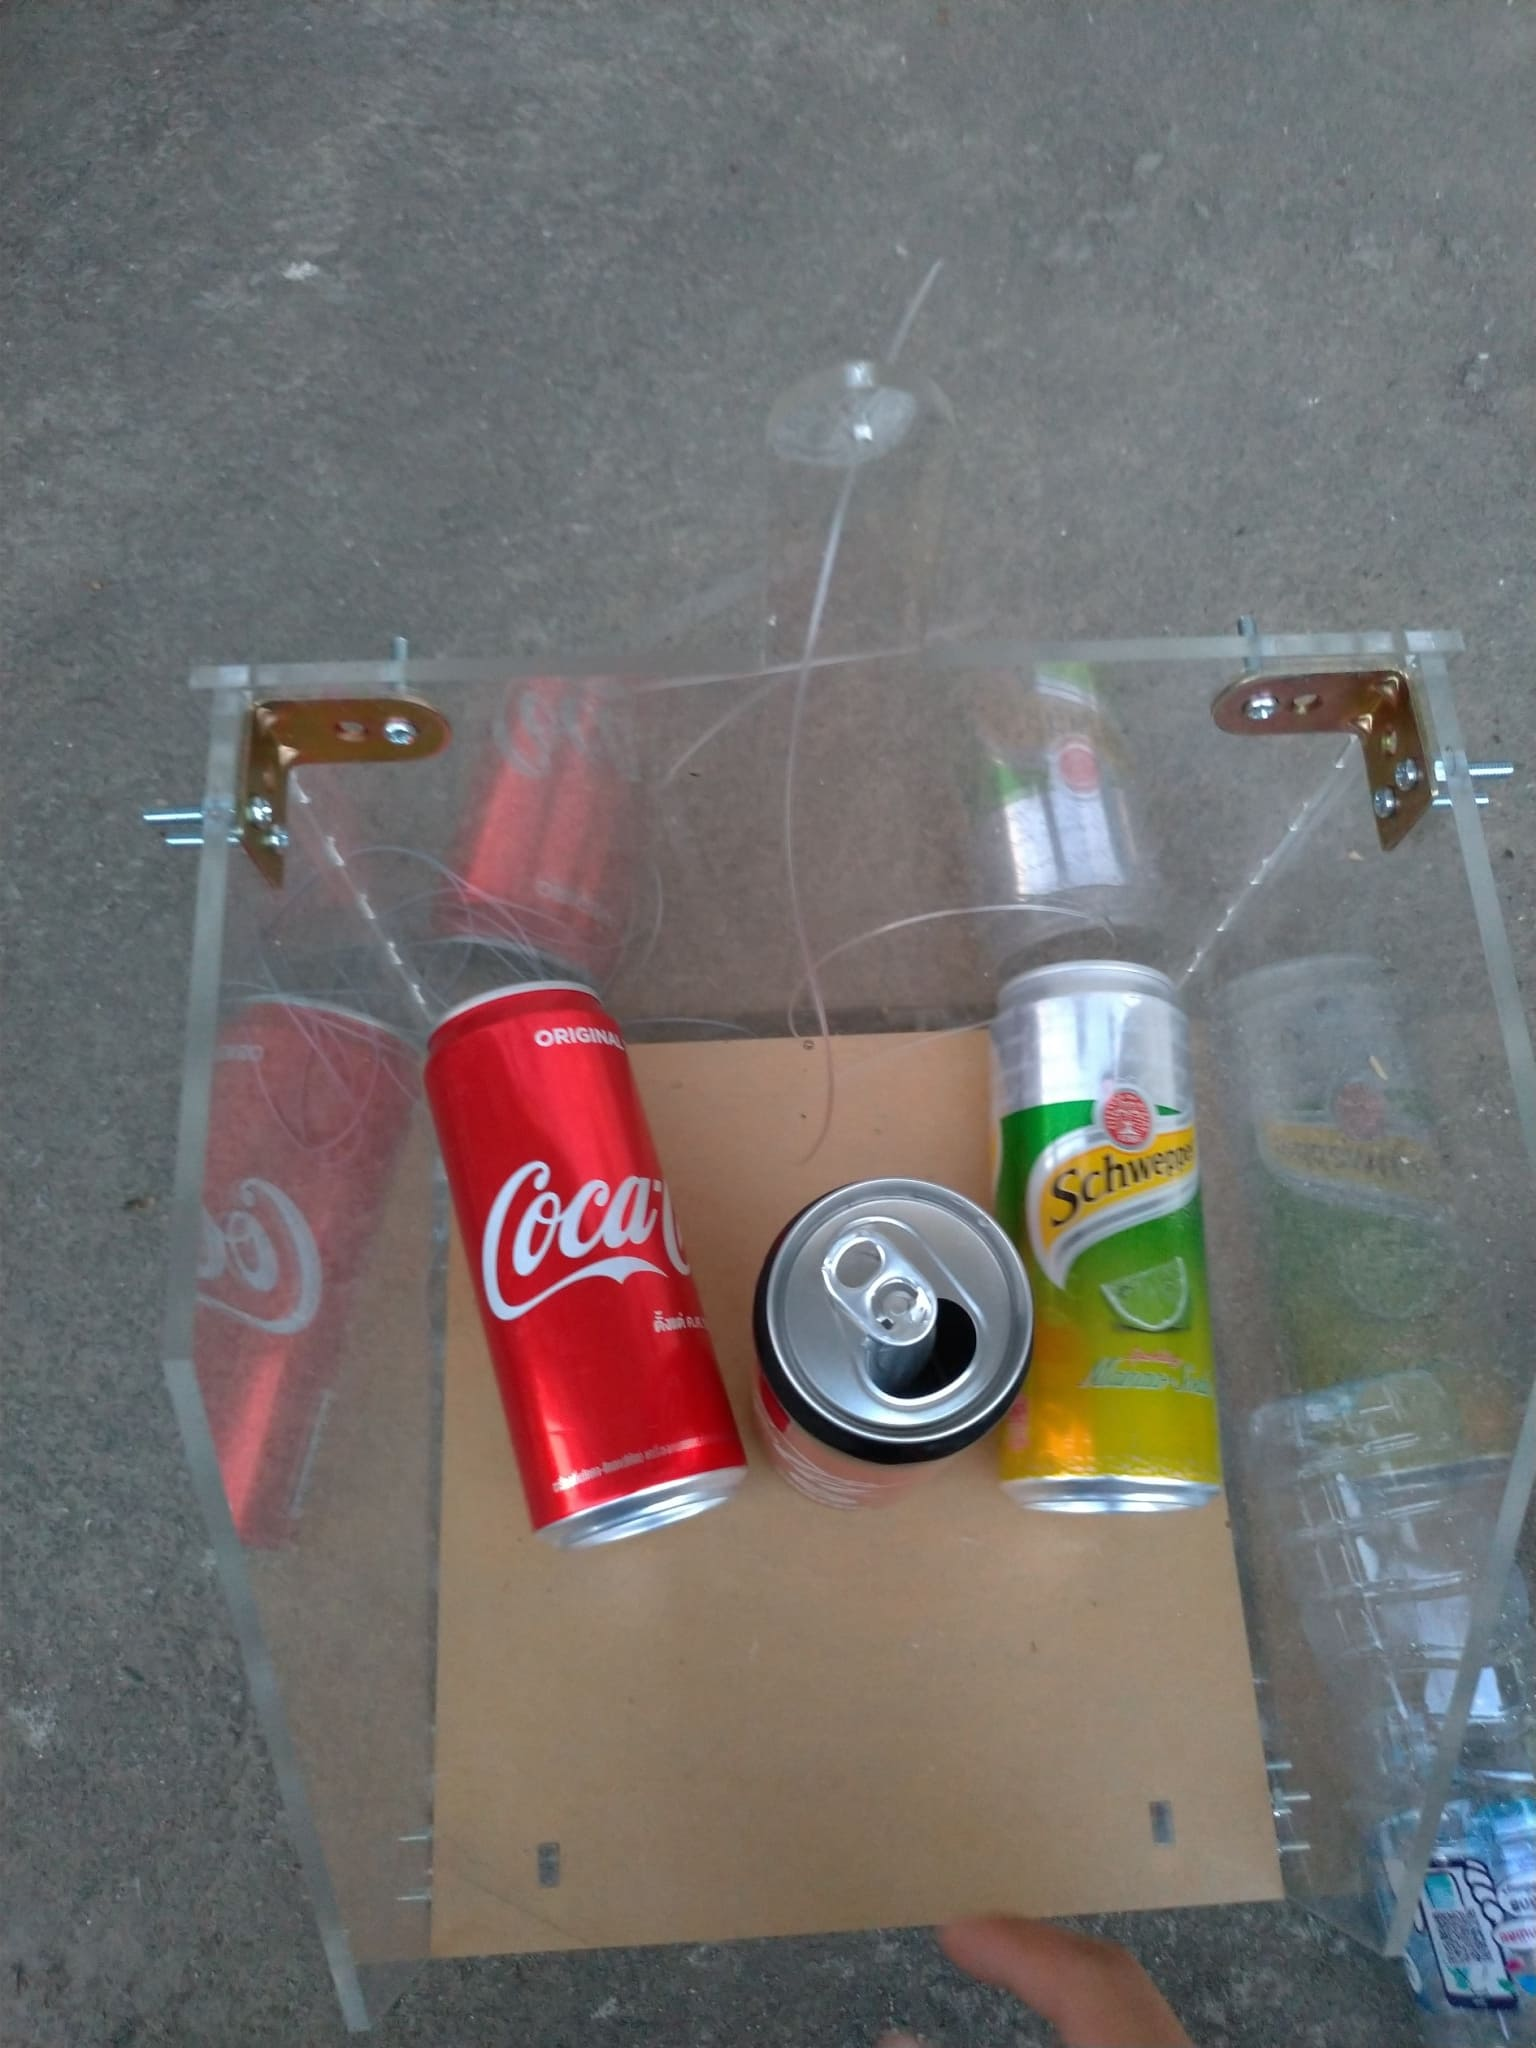AlCan: (416, 980, 753, 1538), (987, 958, 1225, 1527), (750, 1184, 1037, 1511)
PlasticBottle: (1241, 1367, 1536, 2021)
